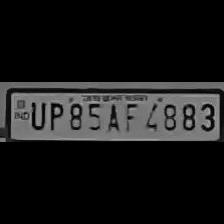3: (196, 100, 216, 132)
4: (140, 100, 160, 132)
5: (84, 100, 104, 132)
8: (64, 100, 84, 132), (158, 99, 178, 131), (178, 99, 196, 131)
A: (104, 99, 122, 133)
F: (121, 99, 139, 133)
P: (46, 100, 64, 132)
U: (27, 98, 46, 130)
